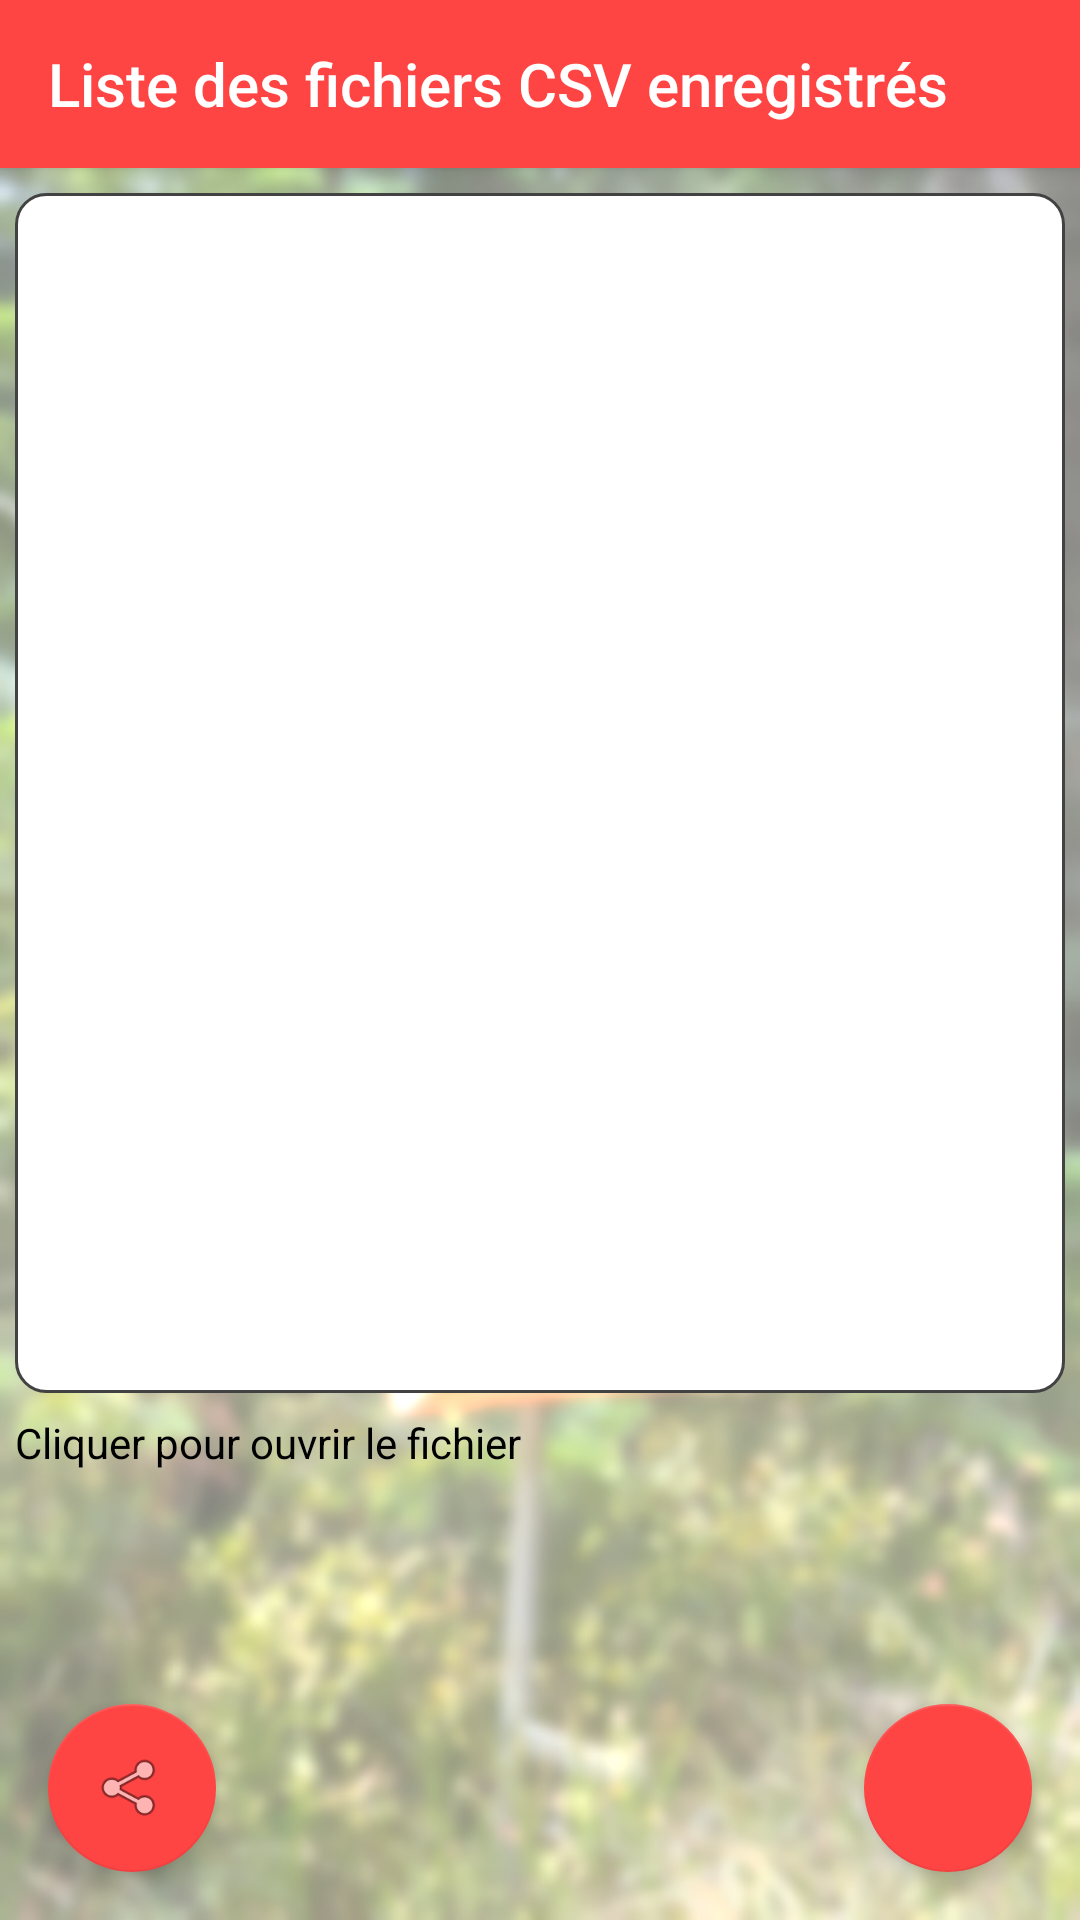

Named icons in this screenshot (1080×1920) and their centers, point (x, y):
share: point (132, 1788)
